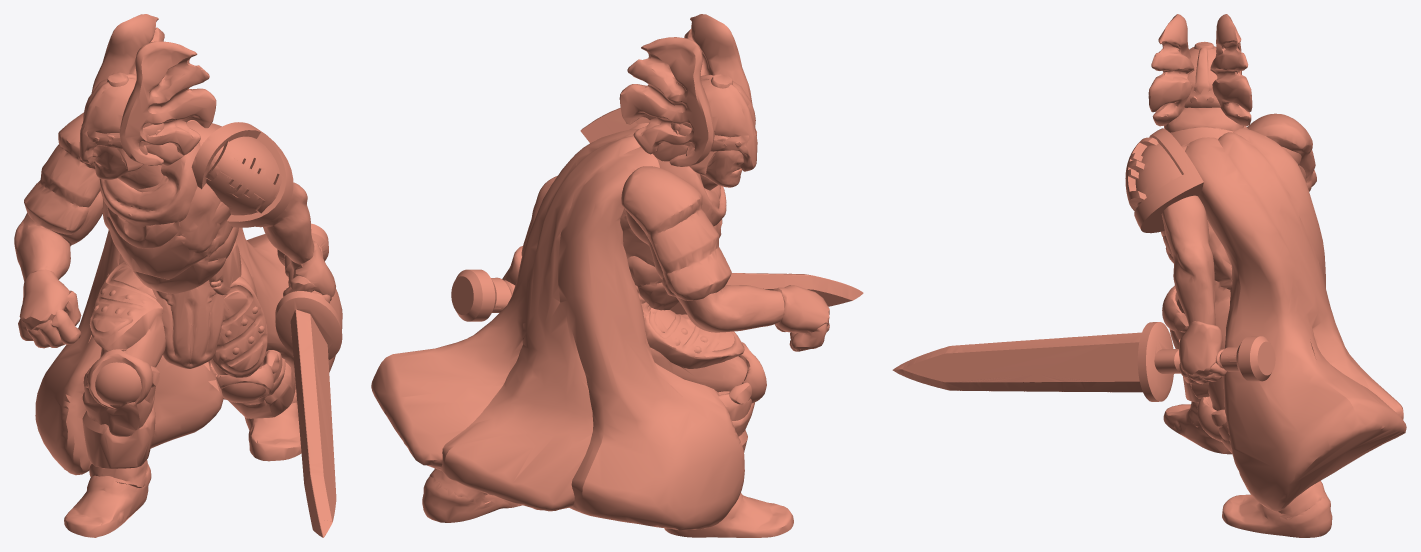
Rendered from FigureWarrior.fbx.
3 views of the same model, side by side, from view 1: azimuth 30°, elevation 25°; view 2: azimuth 150°, elevation 25°; view 3: azimuth 270°, elevation 25° (orthographic). The views are drawn at different scales.
Visible parts, largest first — view 1: Warrior; view 2: Warrior; view 3: Warrior.
Part boxes in pixels (x1=…): Warrior: x1=14, y1=14, x2=342, y2=537; Warrior: x1=371, y1=14, x2=863, y2=537; Warrior: x1=892, y1=14, x2=1406, y2=537.
Bounding box in the file's own units: 40.76 × 49.7 × 53.59.
